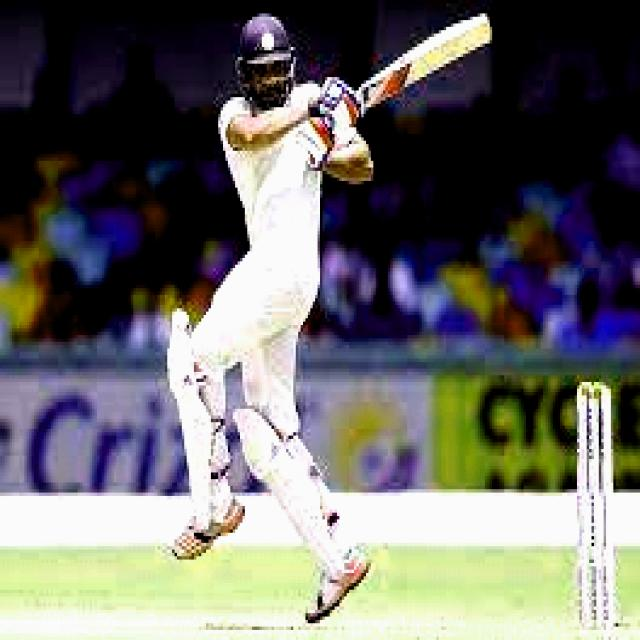toe: (473, 6, 492, 57)
